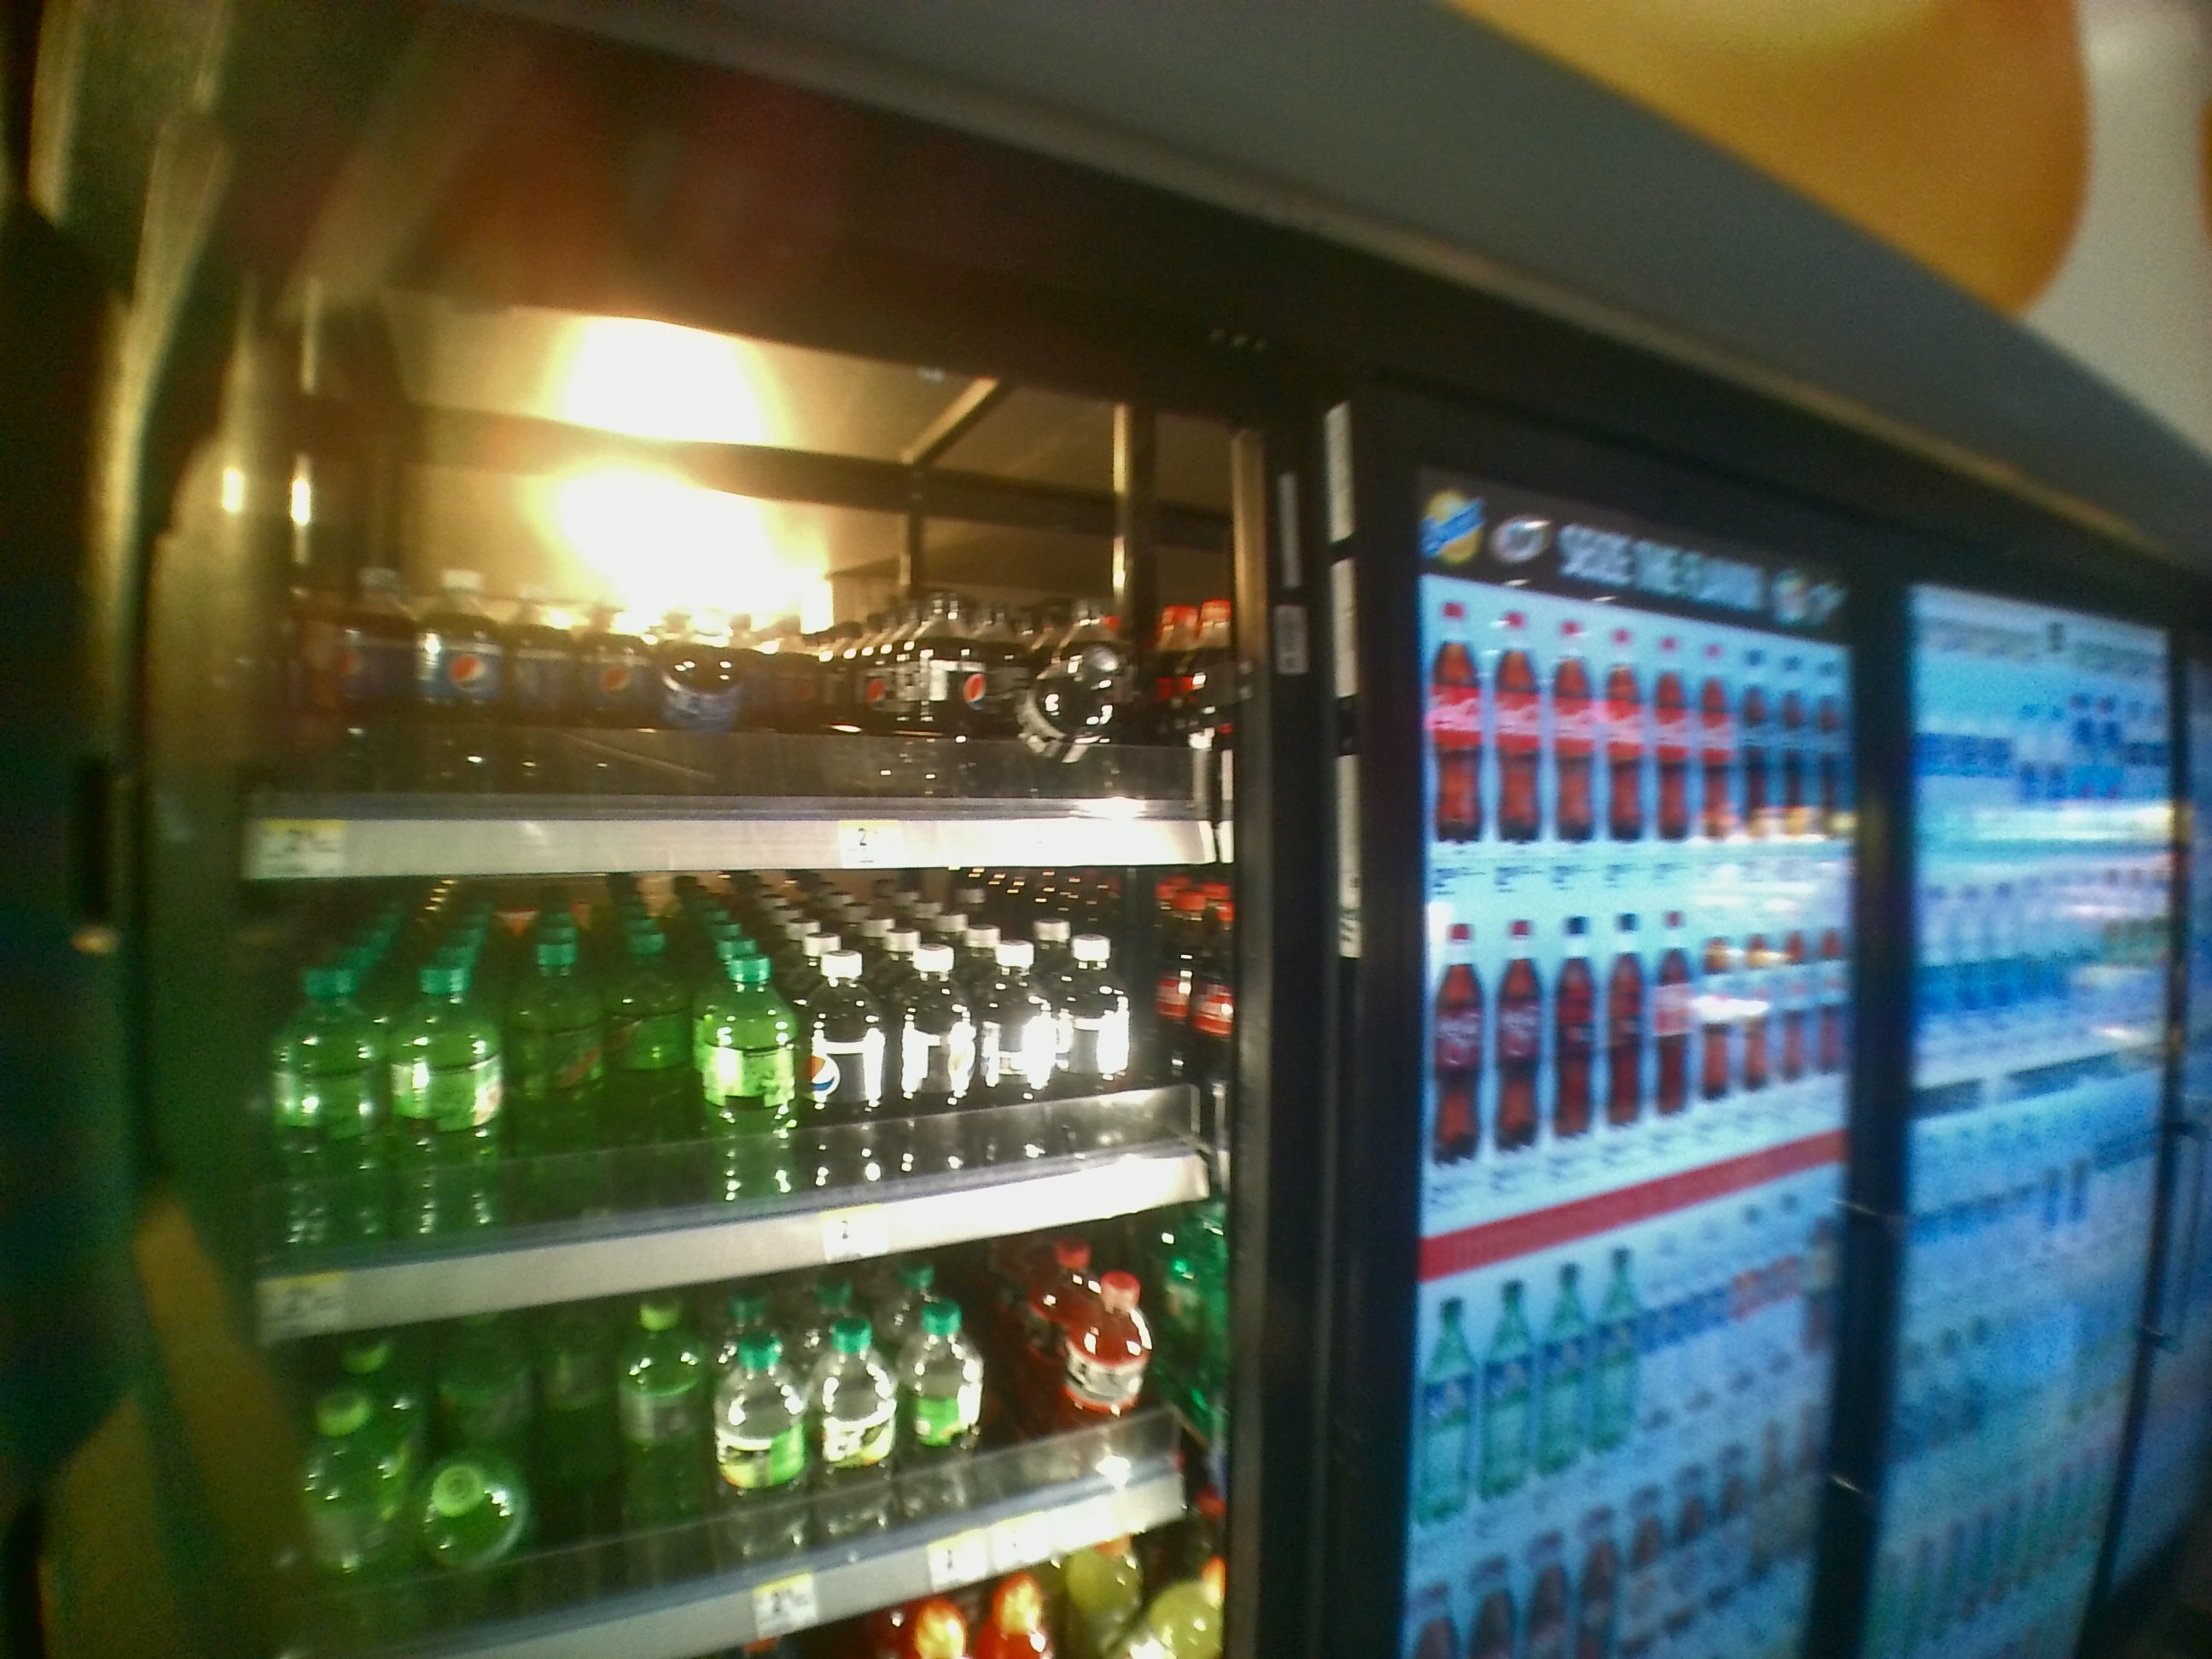shelf: (221, 268, 1254, 875)
